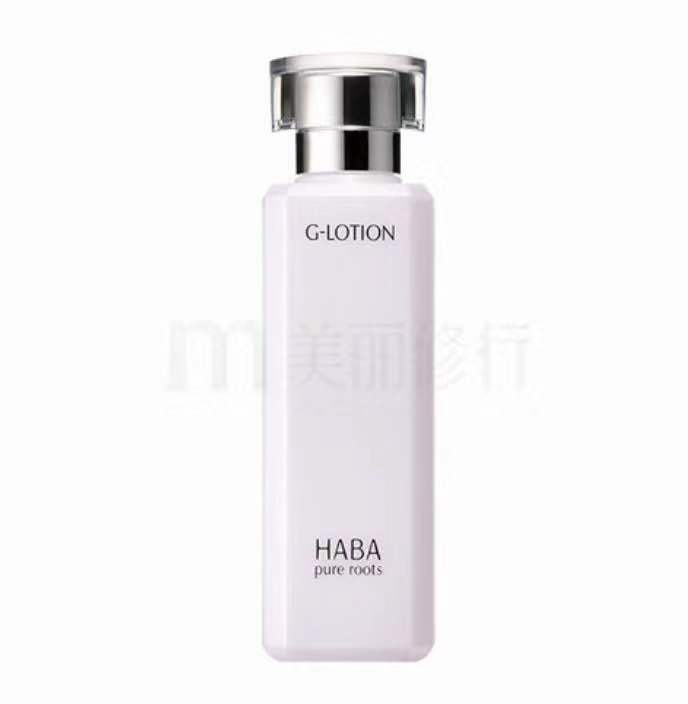cosmetic: (263, 56, 437, 660)
